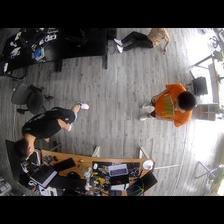fall: (113, 29, 173, 54)
normal: (15, 102, 90, 156), (137, 81, 196, 131)
